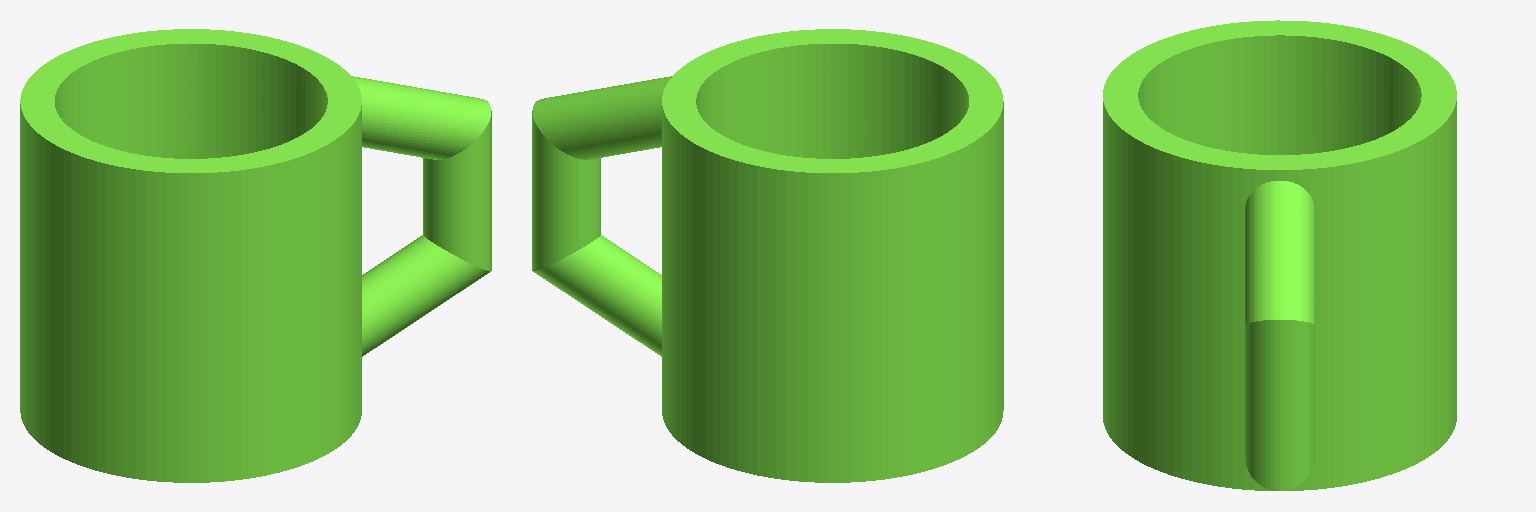
The robot description file, URDF, robot "mug":
<robot name="mug">
  <link name="mug_body_link">
    <inertial>
      <origin xyz="8.13E-03 3.27E-07 -7.84E-03" rpy="0 0 0"/>
      <mass value="4.09E-01"/>
      <inertia ixx="6.9361E-04" ixy="2.7599E-07" ixz="2.6047E-05" iyy="9.1656E-04" iyz="-1.9292E-09" izz="8.6403E-04"/>
    </inertial>
    <visual>
      <origin xyz="0 0 0" rpy="0 0 0"/>
      <geometry>
        <mesh filename="mug_visual.obj" scale="0.9 0.9 0.9"/>
      </geometry>
      <material name="">
        <color rgba="0.58 1 0.35 1"/>
      </material>
    </visual>

    <collision>
      <origin rpy="0 0 0" xyz="0 0 0"/>
      <geometry>
        <cylinder length="0.09" radius="0.0405"/>
      </geometry>
    </collision>
    <collision>
      <origin rpy="0 -1.071 0" xyz="0.063 0 0.0252"/>
      <geometry>
        <cylinder length="0.0486" radius="0.009"/>
      </geometry>
    </collision>
    <collision>
      <origin rpy="0 0 0" xyz="0.081 0 0"/>
      <geometry>
        <cylinder length="0.0486" radius="0.009"/>
      </geometry>
    </collision>
    <collision>
      <origin rpy="0 1.071 0" xyz="0.063 0 -0.0252"/>
      <geometry>
        <cylinder length="0.0486" radius="0.009"/>
      </geometry>
    </collision>
  </link>
</robot>

--- Render facts (derived) ---
Views: 3 orthographic renders of the robot side by side, from view 1: azimuth 30°, elevation 25°; view 2: azimuth 150°, elevation 25°; view 3: azimuth 270°, elevation 25°.
Model mug with 1 links and 0 joints (none), rooted at mug_body_link, posed every joint at zero.
Links seen in each view (by area): view 1: mug_body_link; view 2: mug_body_link; view 3: mug_body_link.
Link boxes in pixels (<box>): mug_body_link: <box>20,29,491,482</box>; mug_body_link: <box>532,29,1003,482</box>; mug_body_link: <box>1103,20,1456,490</box>.
Size in the robot's own frame: 0.135 by 0.09 by 0.09 metres.
1 mesh visuals loaded from 1 distinct referenced files (1 OBJ).